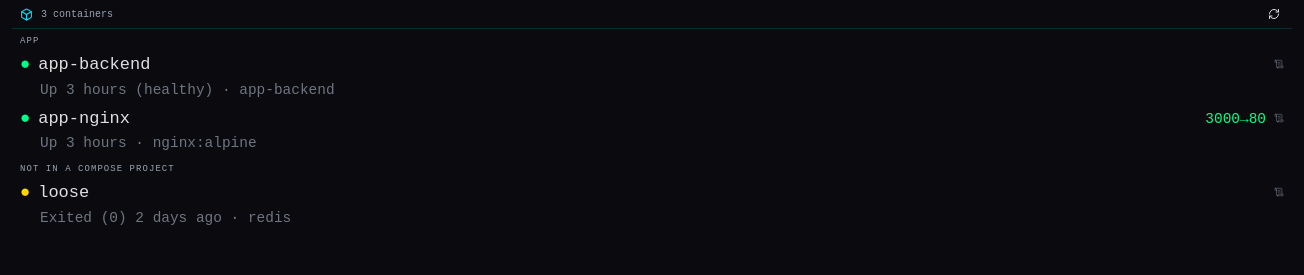
Scenario: DockerTool › reads a log only when one is opened
This screenshot has width=1304, height=275.
Expected: the text "app-nginx" is shown, [38,109,130,128]
Click the button "● app-nginx 3000→80": (84, 118) [12,104,1292,133]
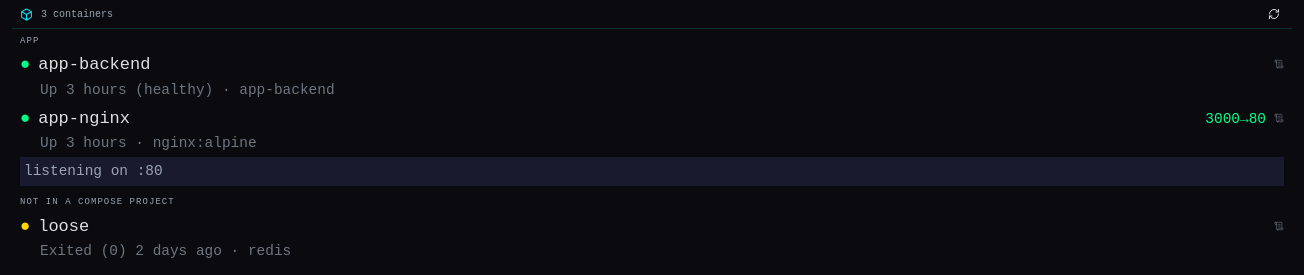
Now the text "listening on :80" is shown, box [20,157,1284,186]
